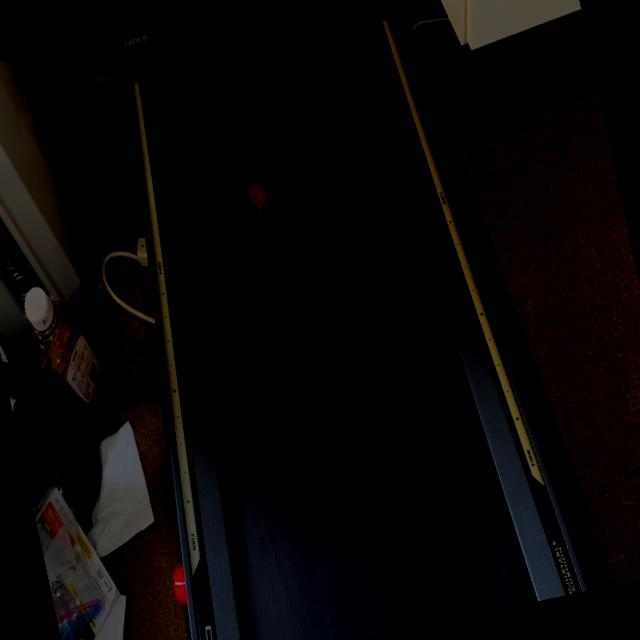Trash: (244, 177, 280, 220)
